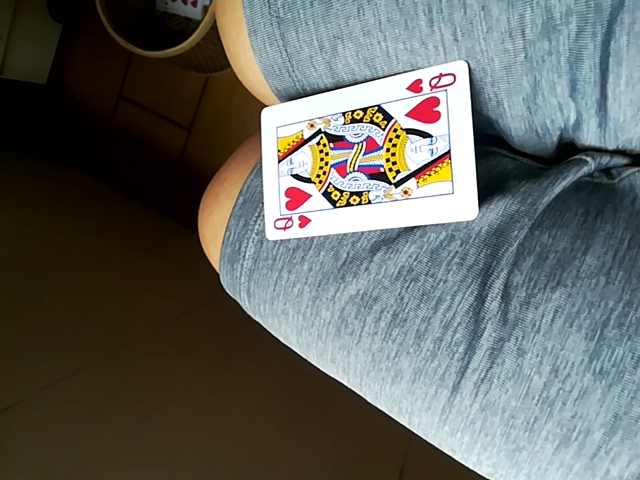hx q: (255, 60, 482, 241)
